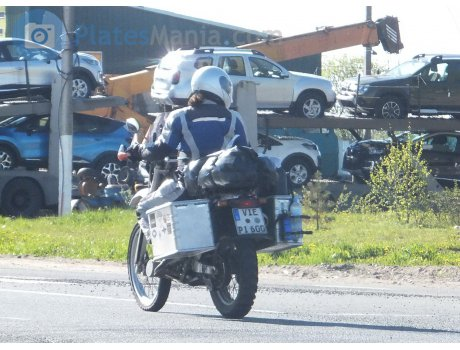License Plates: (236, 208, 267, 230)
